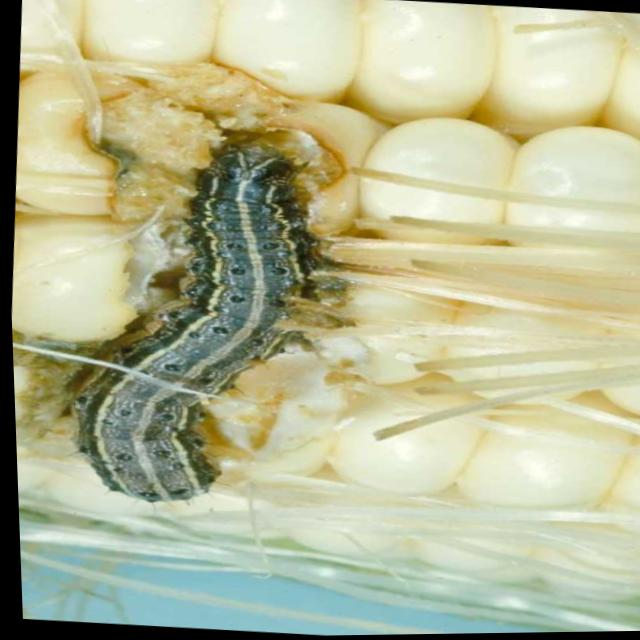Fall-Armyworm: (27, 120, 363, 516)
